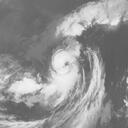cyclone: (53, 49, 81, 78)
